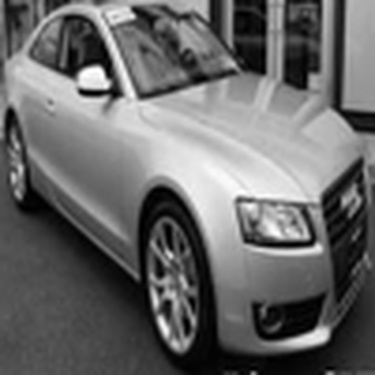car: (6, 2, 368, 370)
